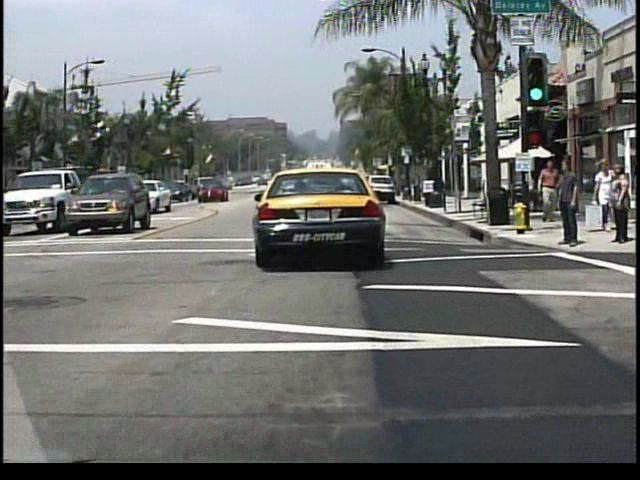person: (558, 156, 580, 247), (595, 157, 614, 233), (540, 162, 561, 220)
